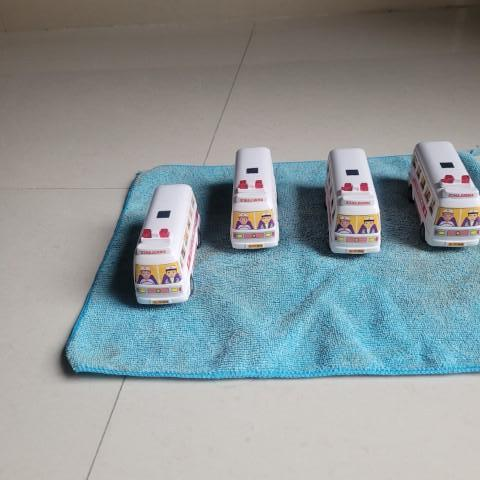ambulance: (127, 182, 208, 309), (407, 137, 480, 248), (321, 141, 383, 259), (228, 143, 287, 253)
